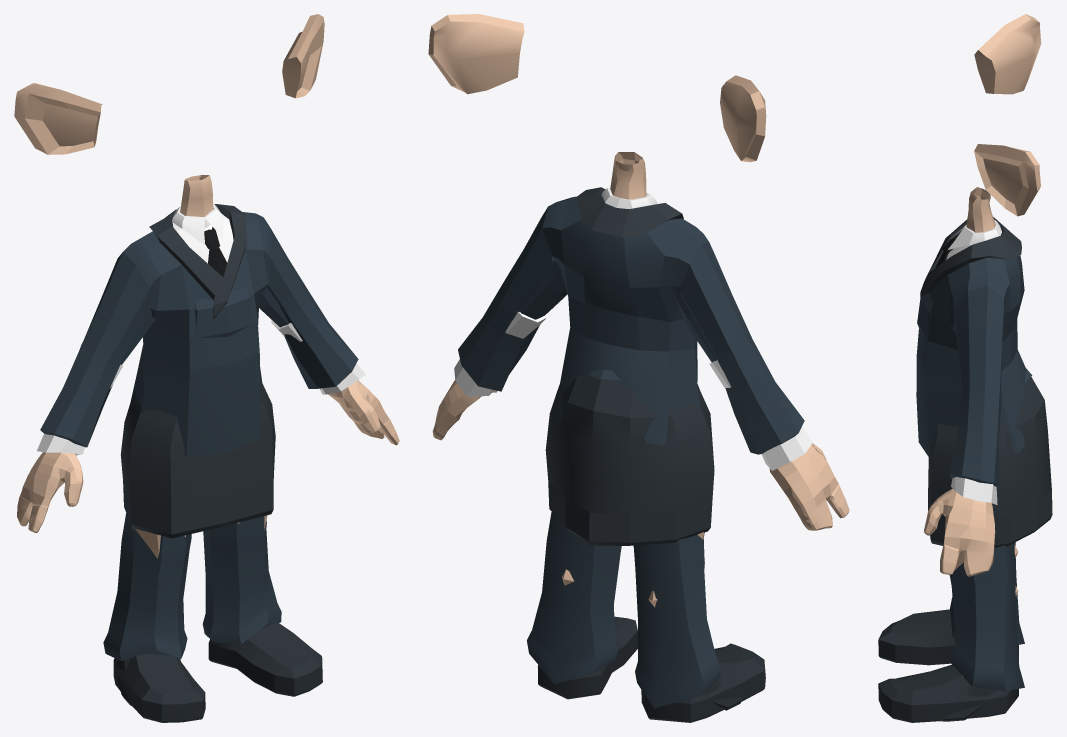
The model's file is Cuerpo_Hombre.fbx.
3 views of the same model, side by side, from view 1: azimuth 30°, elevation 25°; view 2: azimuth 150°, elevation 25°; view 3: azimuth 270°, elevation 25° (orthographic). The views are drawn at different scales.
Parts seen in each view (by area): view 1: Saco, Pantalon, Falda, Zapatos1, Orejas, Body, Cuerpo, Sweter, Camisa, Camisa_Mangas, Corbata1; view 2: Saco, Falda, Pantalon, Orejas, Zapatos1, Body, Cuerpo, Sweter, Camisa_Mangas, Mangas; view 3: Saco, Falda, Zapatos1, Pantalon, Orejas, Body, Cuerpo, Camisa_Mangas, Camisa, Zapatillas, Sweter.
Boxes of the visible parts, x1,y1,x2,y2 form: Saco: (40,204,358,456); Pantalon: (103,513,281,660); Falda: (120,383,275,538); Zapatos1: (113,621,322,722); Orejas: (14,14,324,154); Body: (17,177,397,558); Cuerpo: (17,175,399,532); Sweter: (121,287,288,364); Camisa: (172,204,233,263); Camisa_Mangas: (37,363,365,455); Corbata1: (204,227,227,276); Saco: (458,187,804,454); Falda: (545,374,714,545); Pantalon: (527,512,720,708); Orejas: (428,14,766,162); Zapatos1: (537,616,765,722); Body: (435,153,848,607); Cuerpo: (432,152,849,529); Sweter: (520,246,716,380); Camisa_Mangas: (454,359,812,470); Mangas: (505,312,730,387); Saco: (916,217,1026,487); Falda: (928,377,1052,547); Zapatos1: (878,609,1018,722); Pantalon: (949,542,1024,691); Orejas: (974,14,1041,216); Body: (924,189,1018,596); Cuerpo: (925,187,995,576); Camisa_Mangas: (951,477,997,504); Camisa: (946,220,1001,259); Zapatillas: (941,683,996,721); Sweter: (917,260,1032,382).
Bounding box in the file's own units: 3.92 × 6.18 × 1.63.
